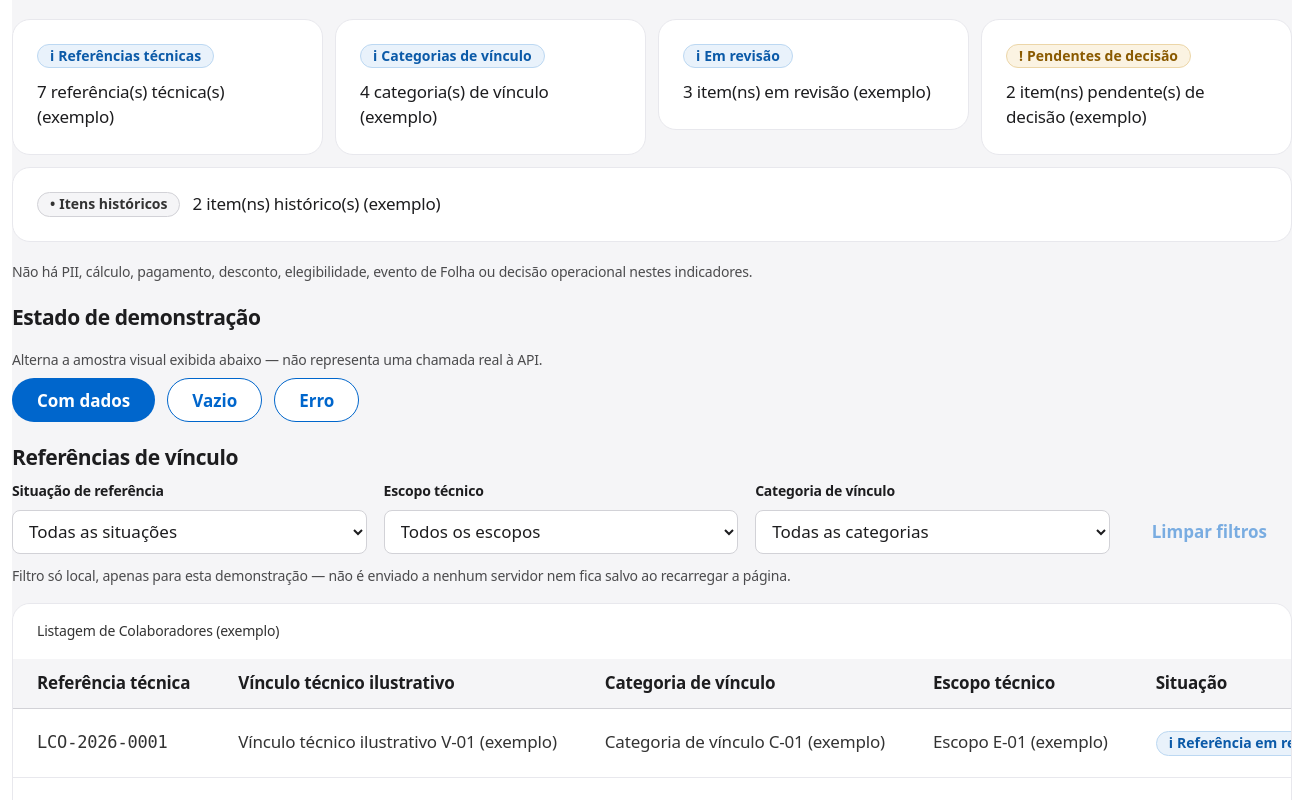
RelatorioListagemColaboradoresScreen (T103 — tela visual estática) › alterna para o estado vazio e mostra o EmptyState
(page scrolled)
What coordinates should you click on to do the following:
click the button "Vazio"
I would click on:
 (215, 400)
Its box is [167, 378, 262, 422].
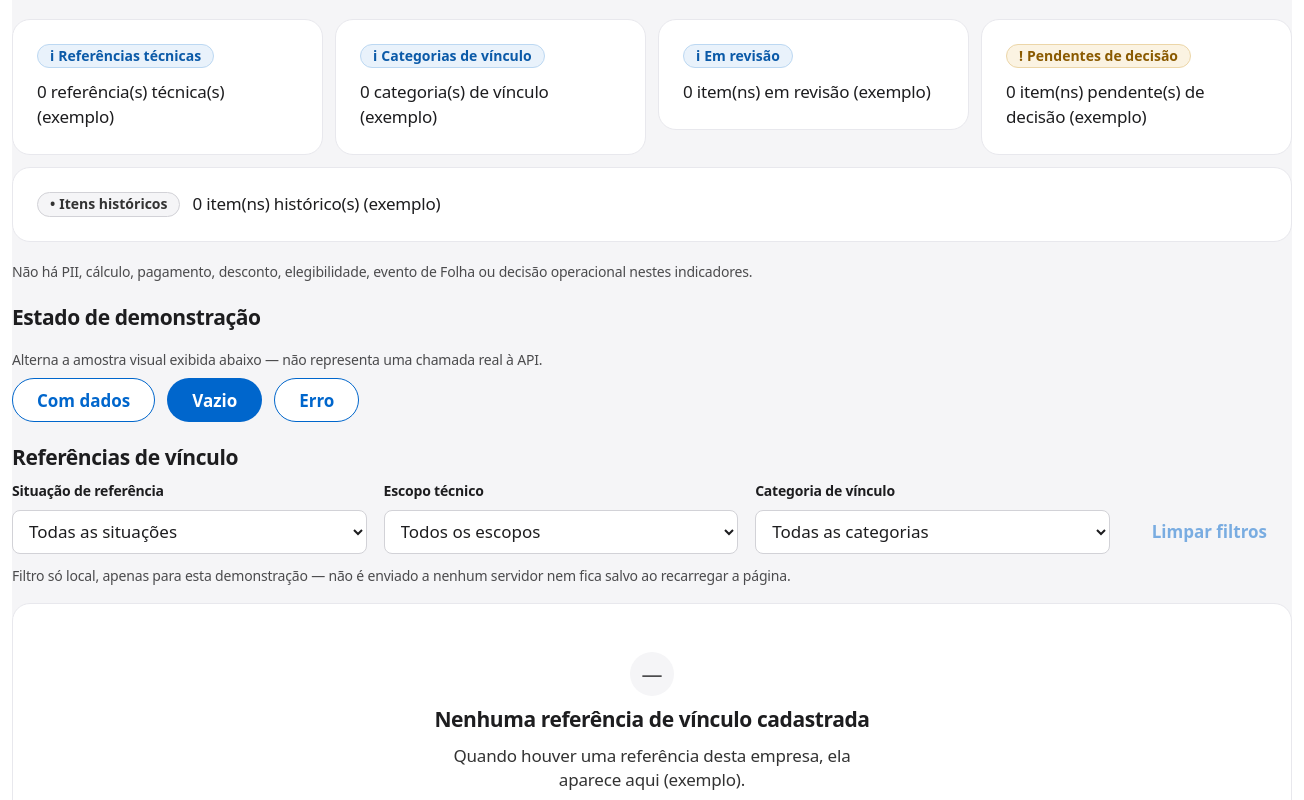
Result: the text "Listagem de Colaboradores (exemplo)" is gone
Result: the heading "Nenhuma referência de vínculo cadastrada" is shown at [434, 708, 870, 732]
